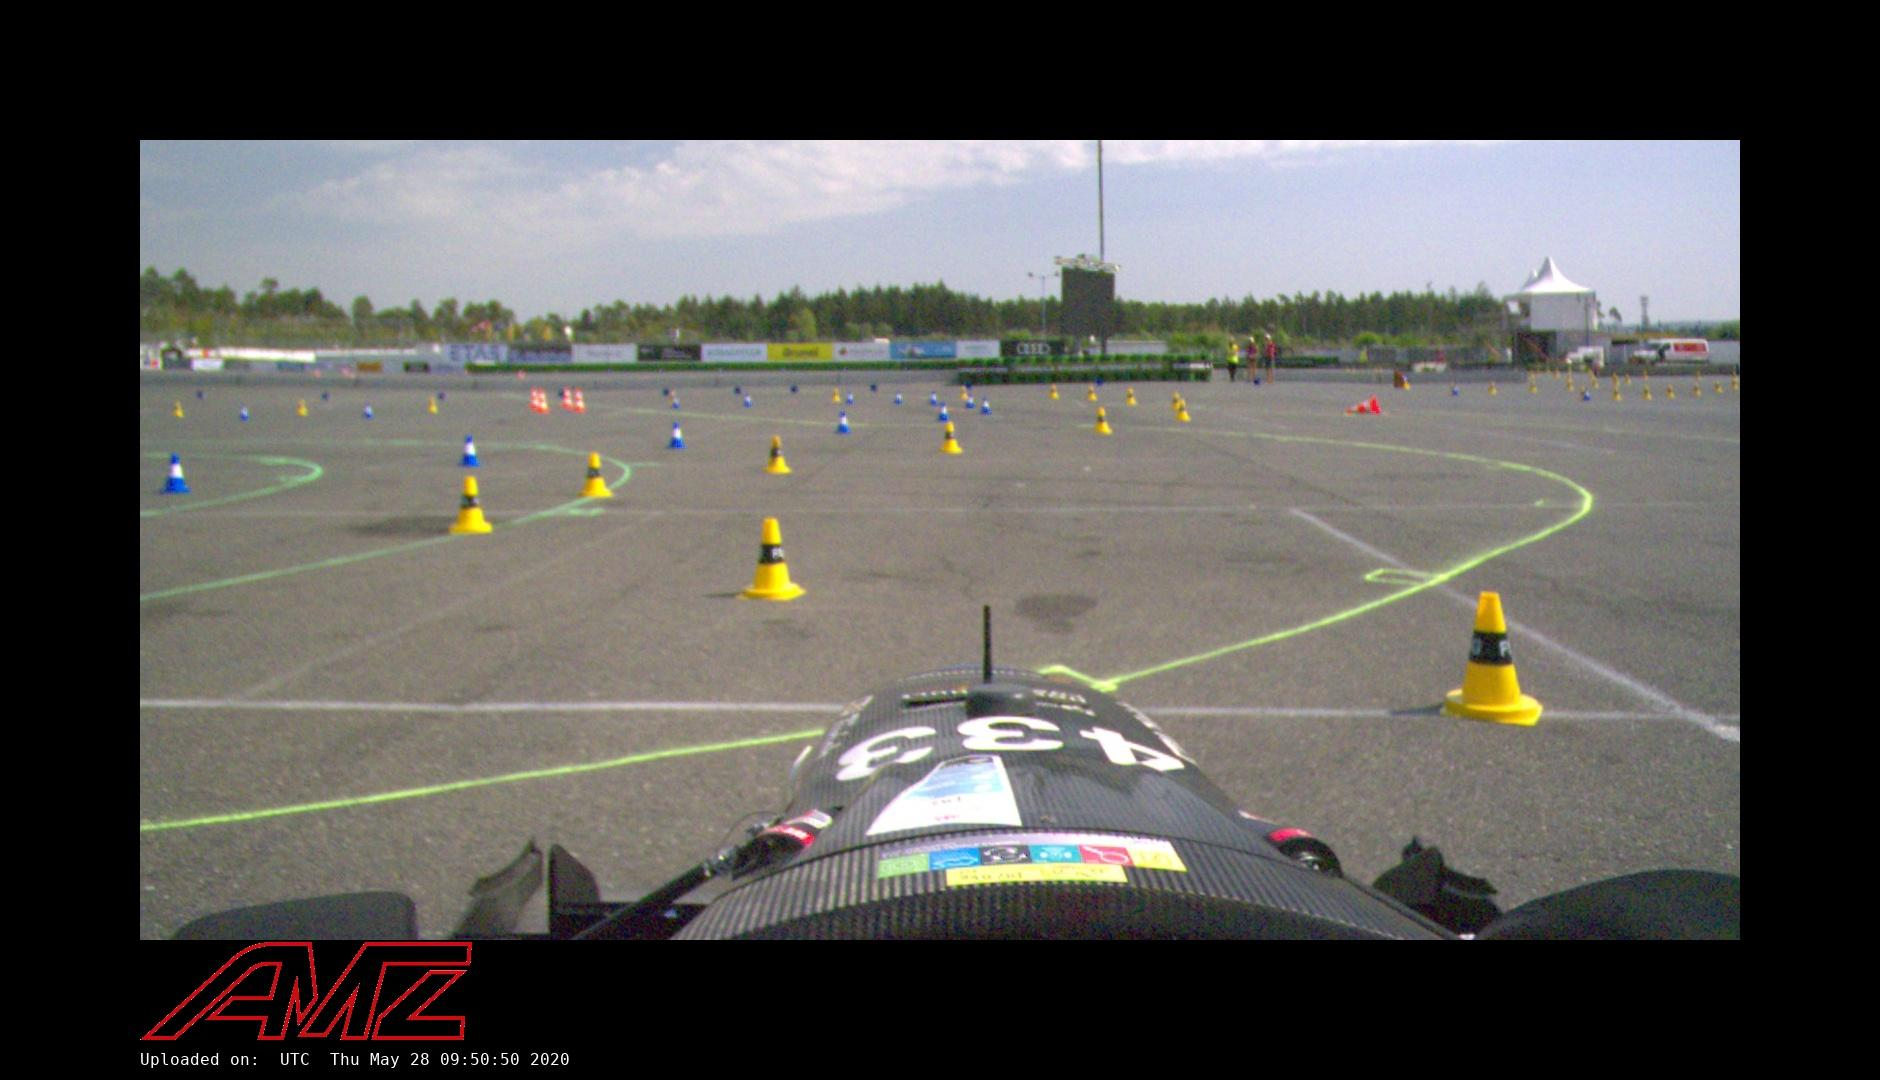blue_cone: (1437, 589, 1544, 729), (159, 453, 191, 495), (456, 434, 482, 466), (664, 422, 688, 450), (833, 411, 851, 434), (935, 400, 952, 421), (236, 402, 250, 421), (977, 397, 993, 413), (360, 400, 374, 419), (669, 394, 680, 410), (894, 389, 904, 406), (928, 389, 939, 406), (742, 393, 754, 407), (965, 394, 976, 408), (844, 390, 855, 404)
large_orange_cone: (571, 388, 587, 413), (536, 389, 550, 413), (560, 386, 572, 410), (529, 388, 540, 410)
orange_cone: (1343, 394, 1382, 415)
yellow_cone: (733, 517, 807, 603), (445, 475, 495, 535), (573, 453, 615, 497), (763, 435, 792, 475), (937, 422, 965, 455), (1092, 406, 1114, 435), (1172, 398, 1193, 422), (294, 398, 309, 419), (170, 400, 186, 419), (1125, 388, 1138, 406), (1171, 391, 1183, 411), (427, 397, 440, 413), (1086, 385, 1098, 402), (1048, 384, 1060, 399), (958, 385, 968, 400), (668, 390, 677, 404), (832, 389, 841, 403)
